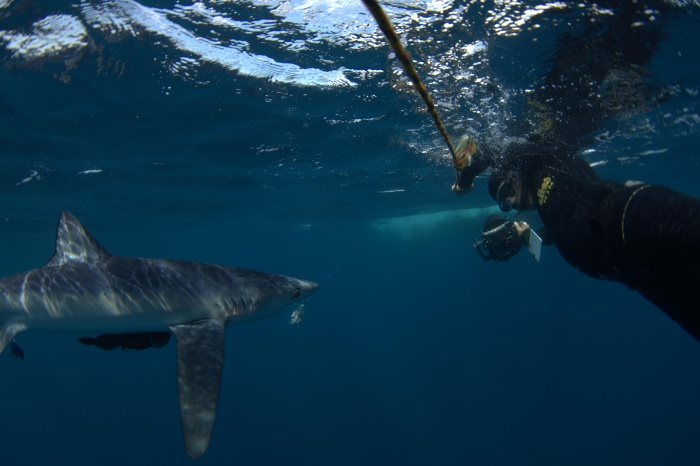Azul: (1, 212, 351, 463)
